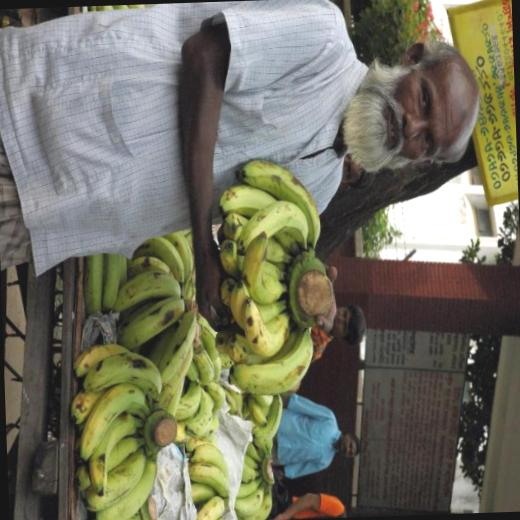Banana: (62, 154, 340, 520), (207, 148, 334, 400)
